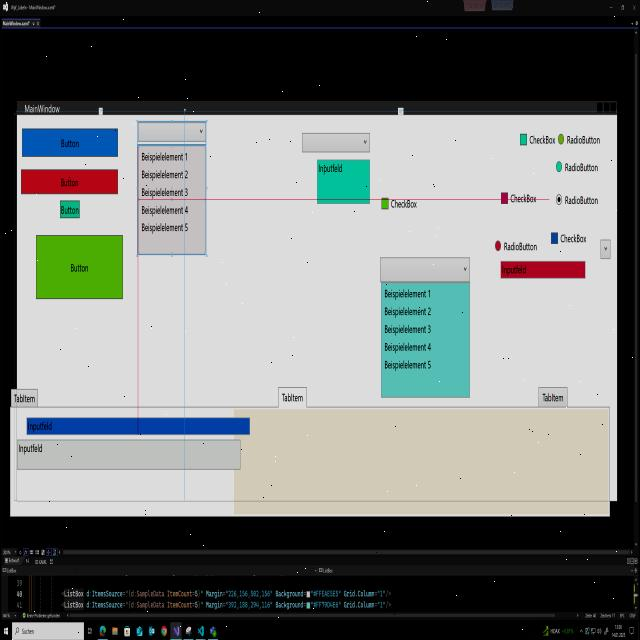button: (34, 232, 124, 302), (21, 126, 119, 158), (20, 168, 119, 196), (59, 198, 81, 220)
checkbox: (520, 132, 528, 146), (381, 197, 389, 210), (501, 191, 508, 205), (550, 232, 558, 244)
dropdownMenu: (379, 256, 472, 404), (136, 117, 208, 259), (302, 132, 371, 154), (598, 235, 613, 263)
input: (15, 436, 242, 473), (25, 416, 252, 436), (316, 156, 372, 207), (499, 258, 586, 280)
label: (390, 197, 420, 210), (503, 241, 538, 252), (566, 135, 600, 146), (564, 162, 598, 173), (564, 195, 598, 206), (560, 232, 587, 244), (510, 193, 538, 204), (529, 134, 556, 145)
menuItem: (384, 288, 432, 300), (384, 359, 432, 371), (140, 222, 188, 234), (141, 150, 188, 162), (140, 204, 190, 215), (384, 342, 432, 353), (141, 169, 189, 180), (141, 187, 189, 198), (384, 306, 432, 316), (384, 324, 432, 334)
radio: (494, 238, 502, 252), (555, 193, 563, 206), (556, 160, 562, 173), (558, 133, 564, 145)
tabControl: (536, 381, 570, 413), (274, 382, 310, 411), (10, 384, 41, 413)
